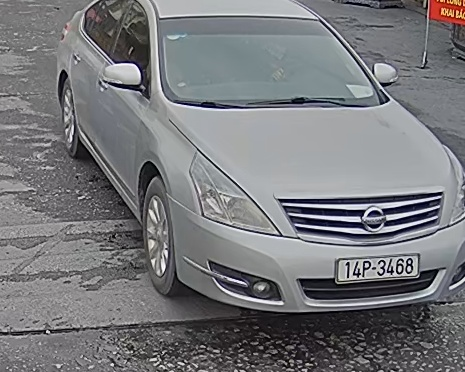vehicle plate: (335, 254, 423, 282)
